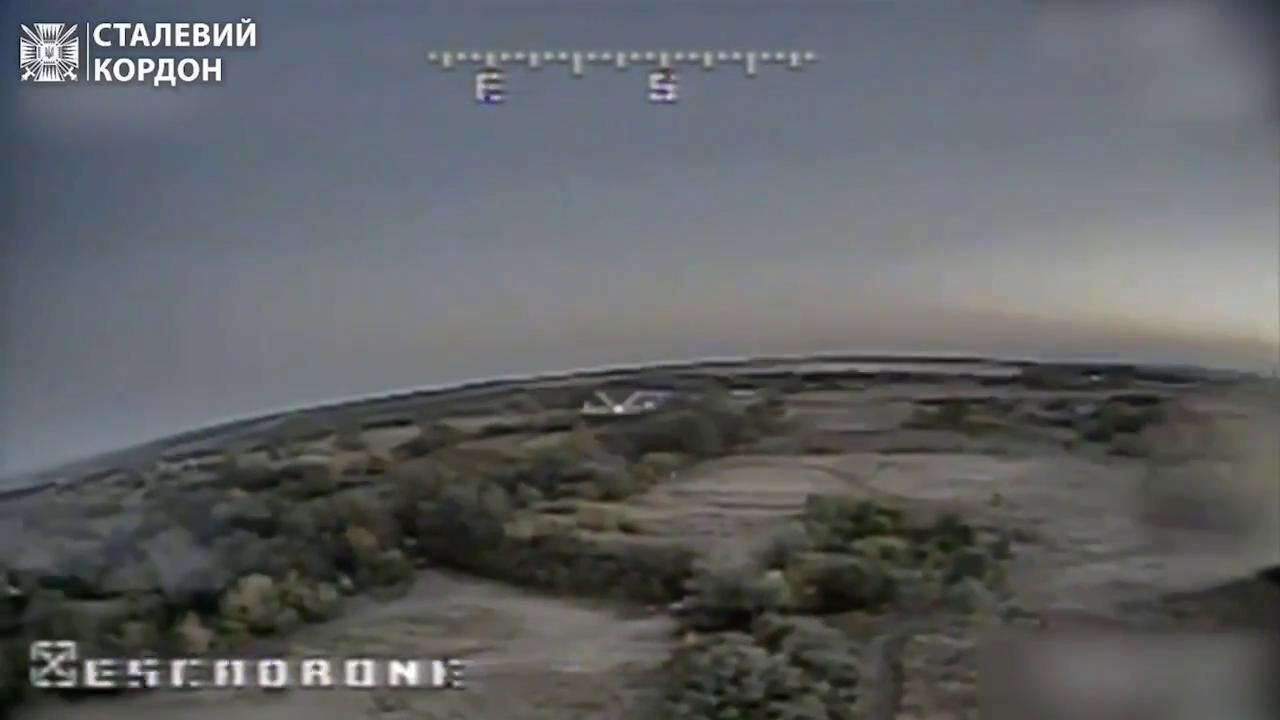tank: (316, 557, 381, 610)
